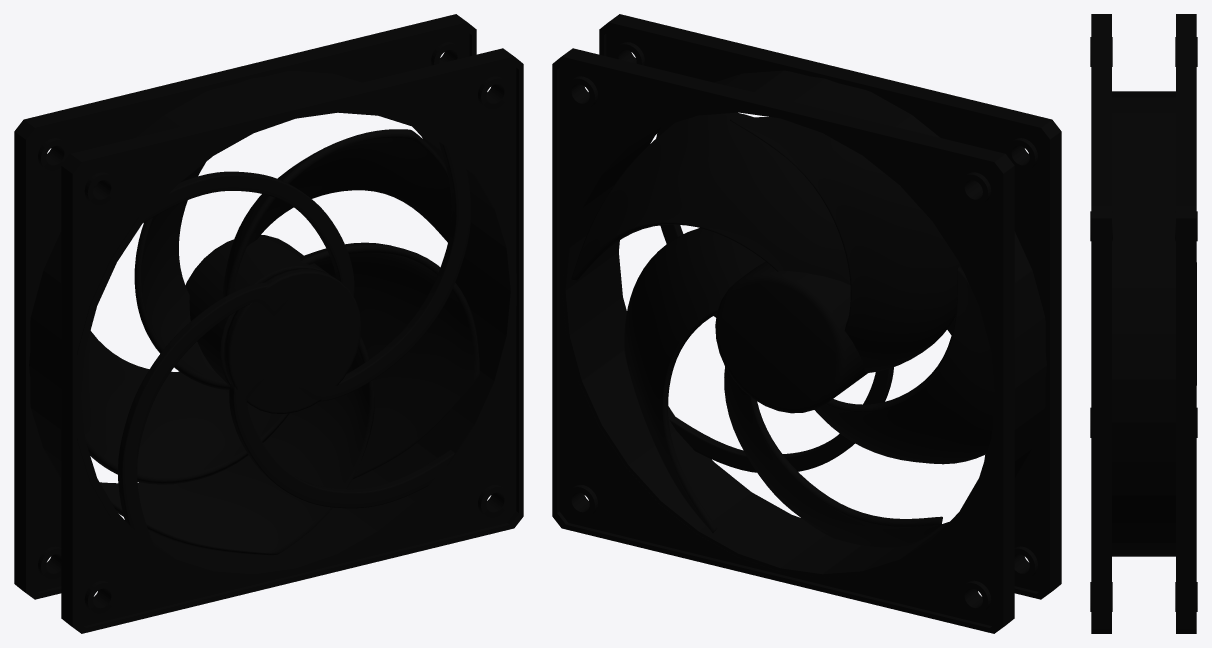
File: fan.glb
3 views of the same model, side by side, from view 1: azimuth 30°, elevation 25°; view 2: azimuth 150°, elevation 25°; view 3: azimuth 270°, elevation 25° (orthographic). The views are drawn at different scales.
Visible parts, largest first — view 1: FAn; view 2: FAn; view 3: FAn.
Boxes of the visible parts, bbox=[...] form: FAn: bbox=[14, 14, 523, 633]; FAn: bbox=[552, 14, 1061, 633]; FAn: bbox=[1090, 14, 1197, 633].
Bounding box in the file's own units: 0.1215 × 0.1215 × 0.0277.
1 material, 1 textured.
